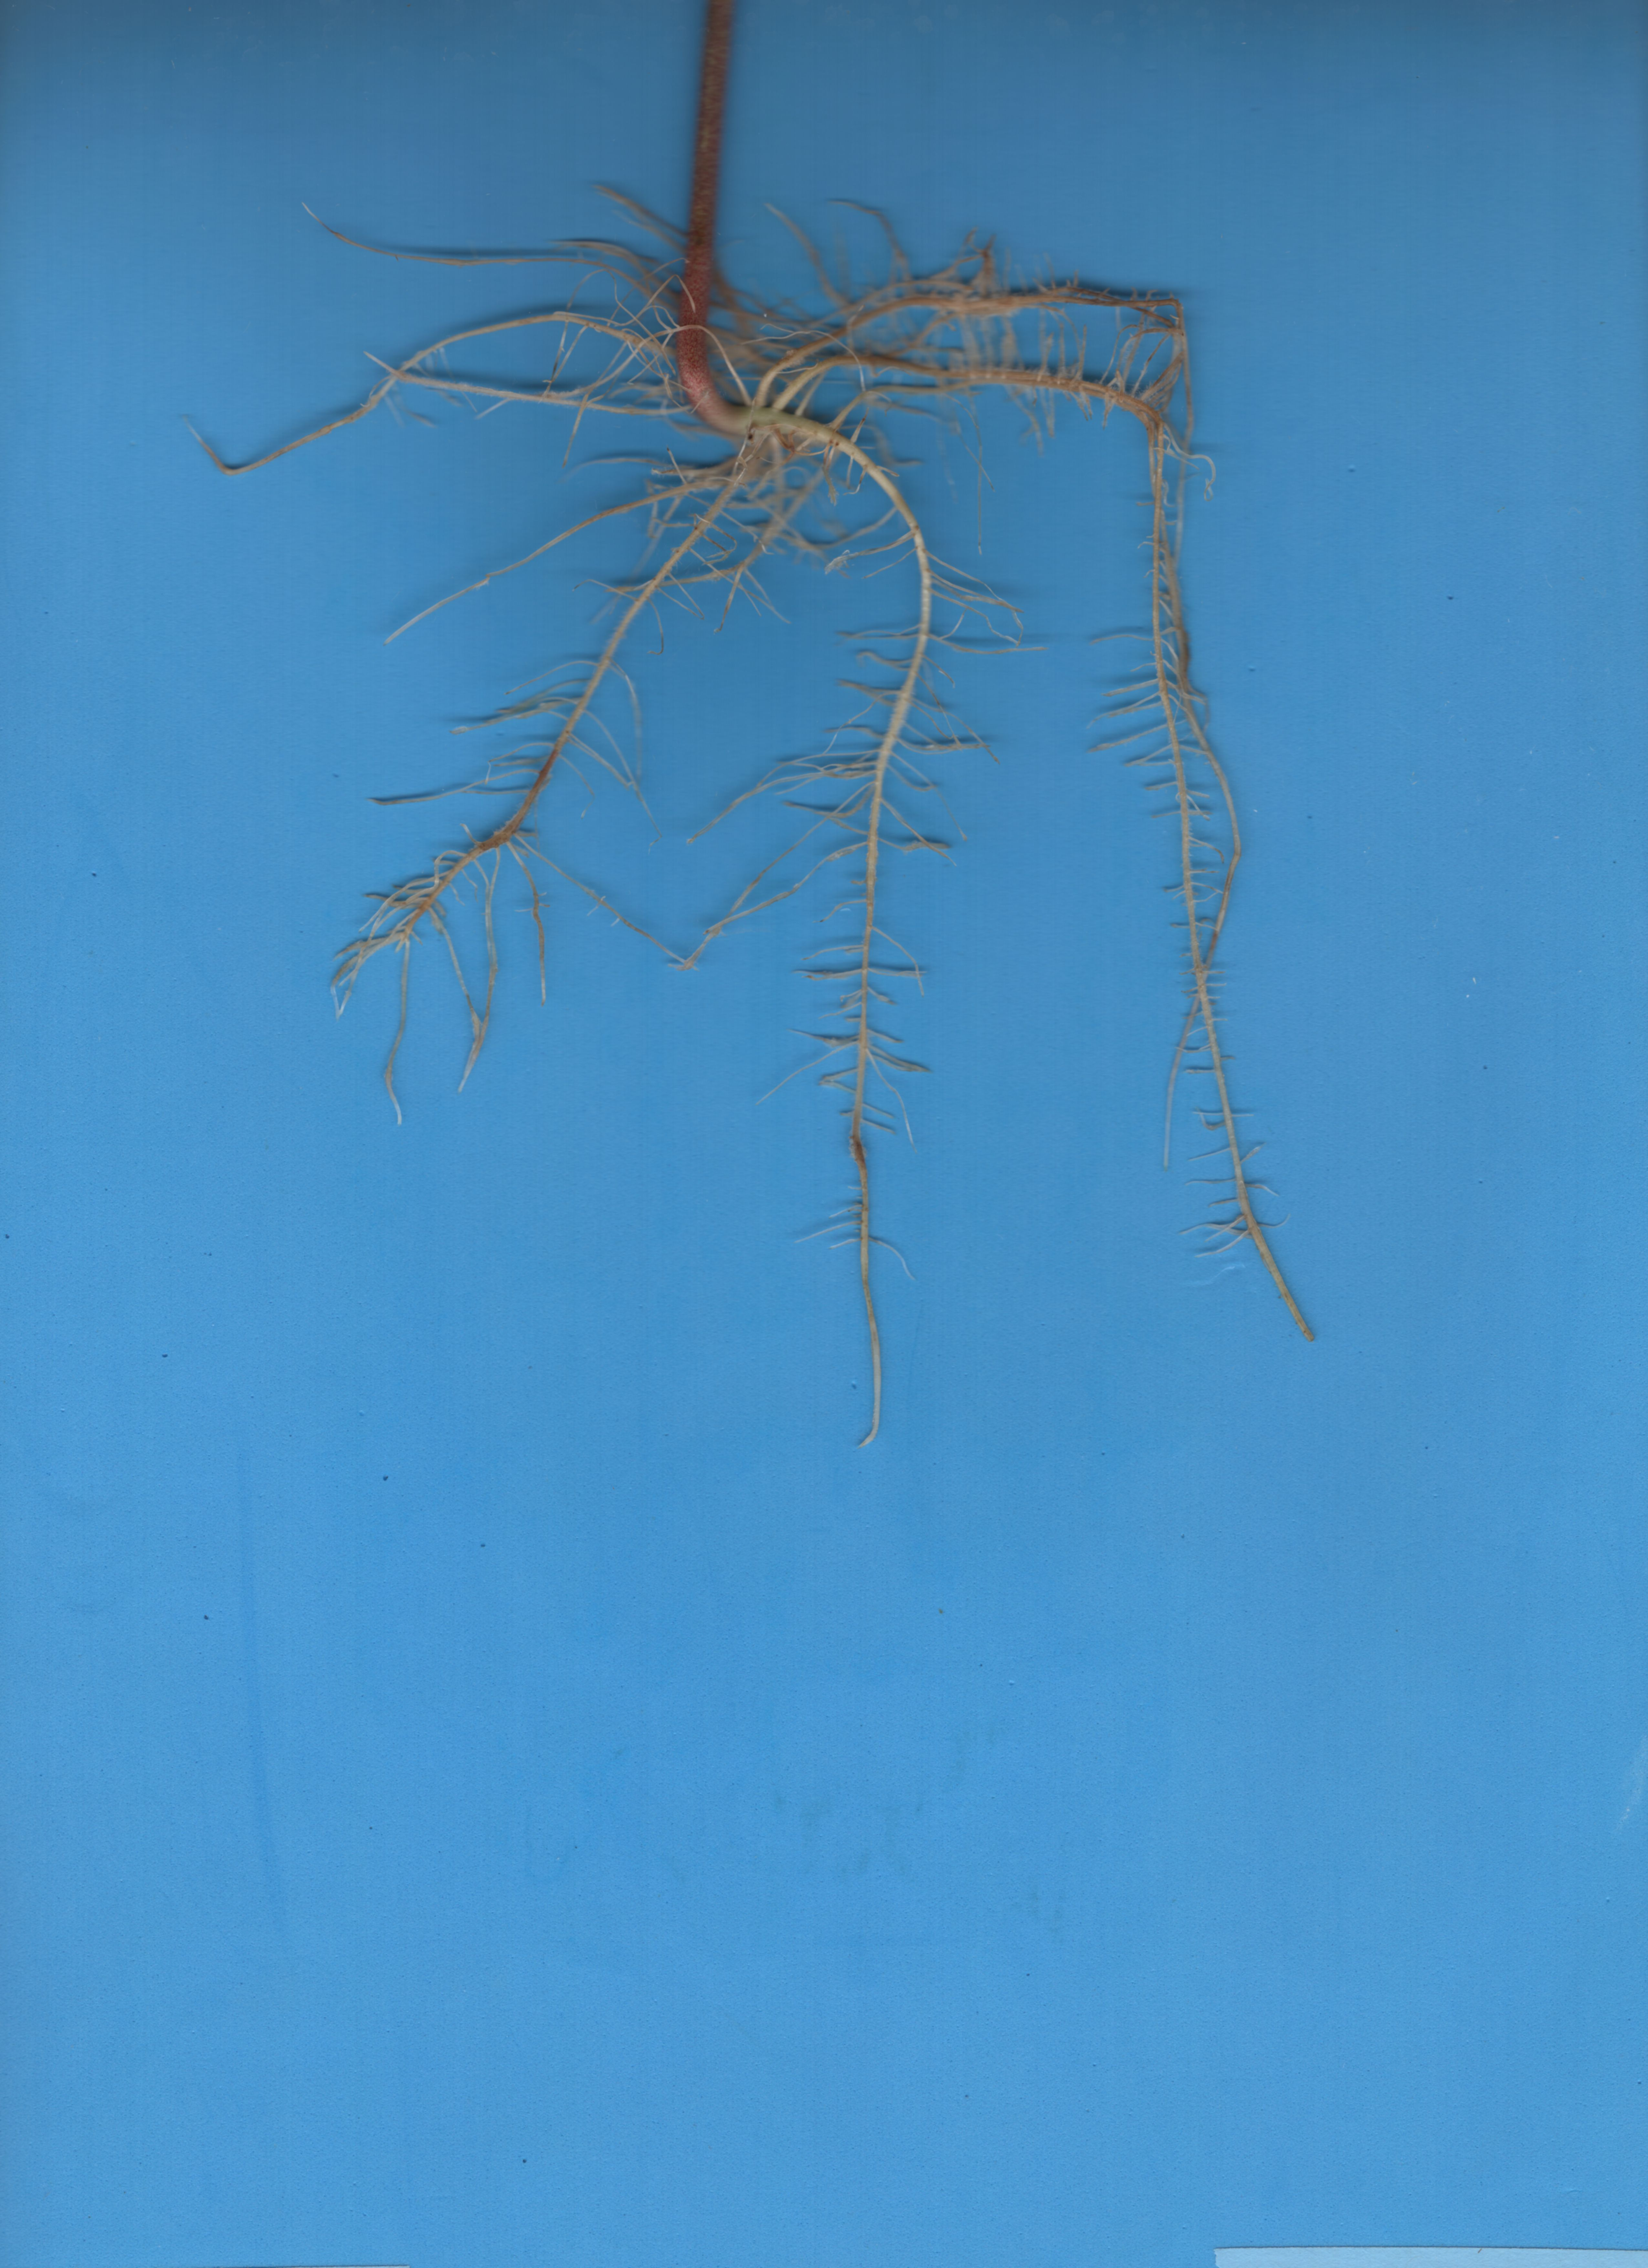CROWNDISEASE: (641, 5, 798, 398)
ROOTGOOD: (134, 245, 1431, 1462)
